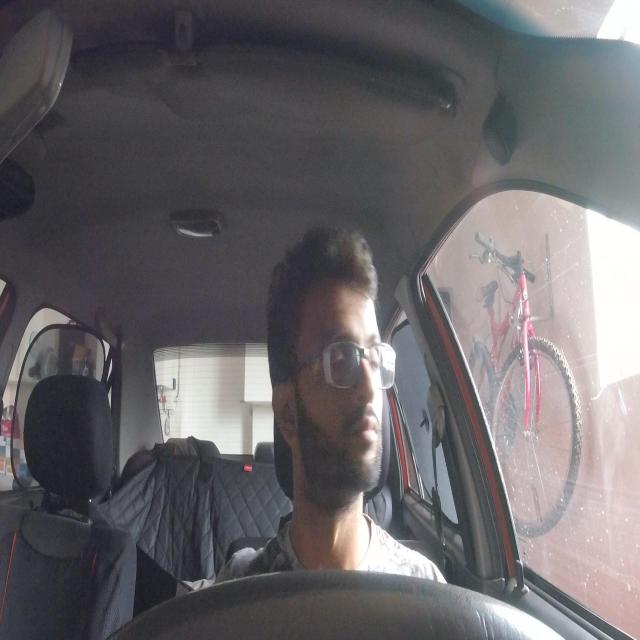close: (364, 327, 382, 376)
